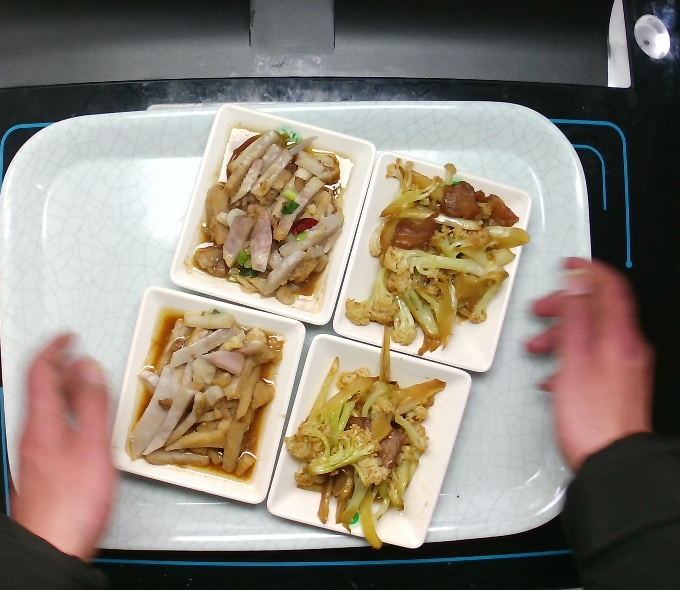wcq-QiuCaiChaoRou: (342, 155, 531, 358), (279, 352, 454, 550)
wcq-YuTou: (121, 303, 290, 496), (187, 117, 356, 310)
